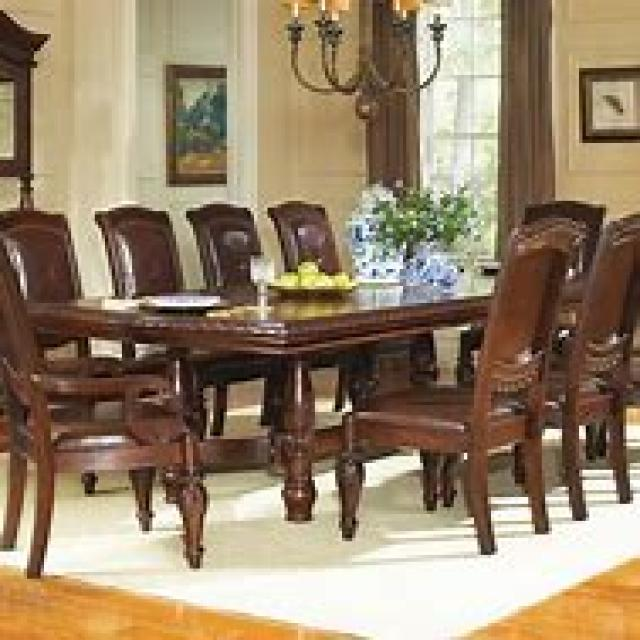chair: (0, 228, 207, 575)
table: (20, 262, 586, 531)
